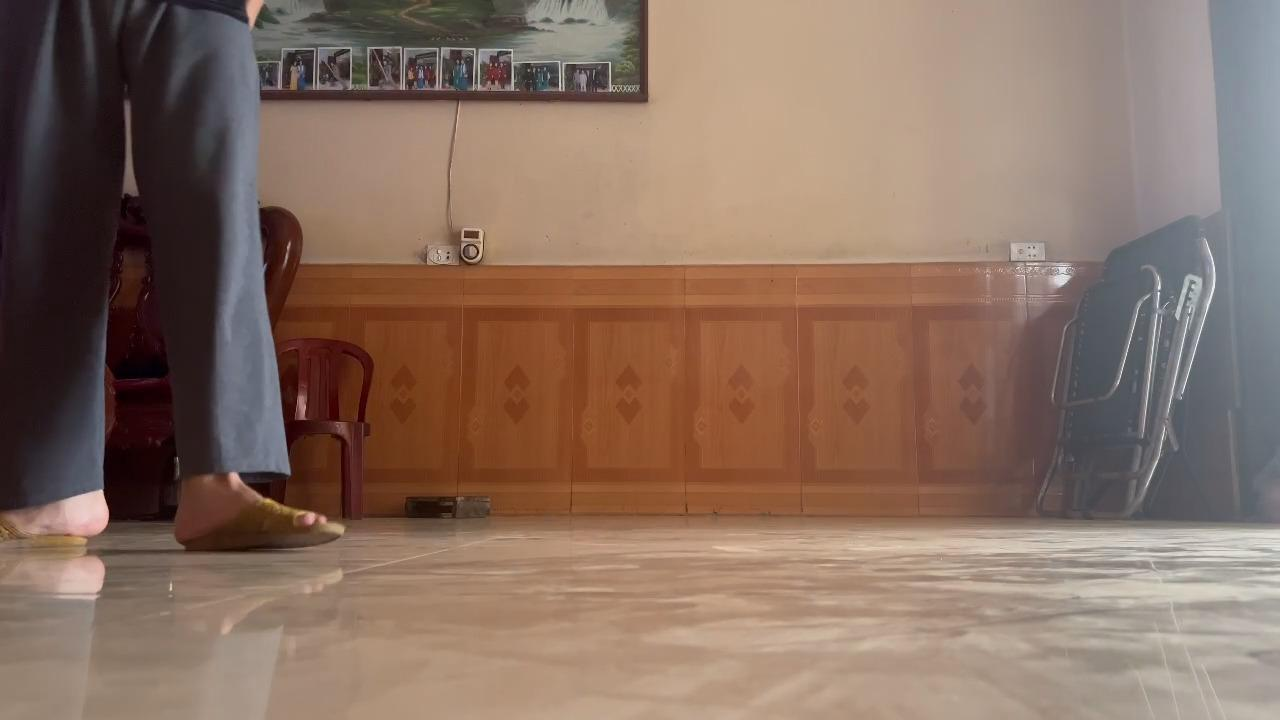no-boot: (167, 483, 349, 565), (0, 492, 117, 559)
